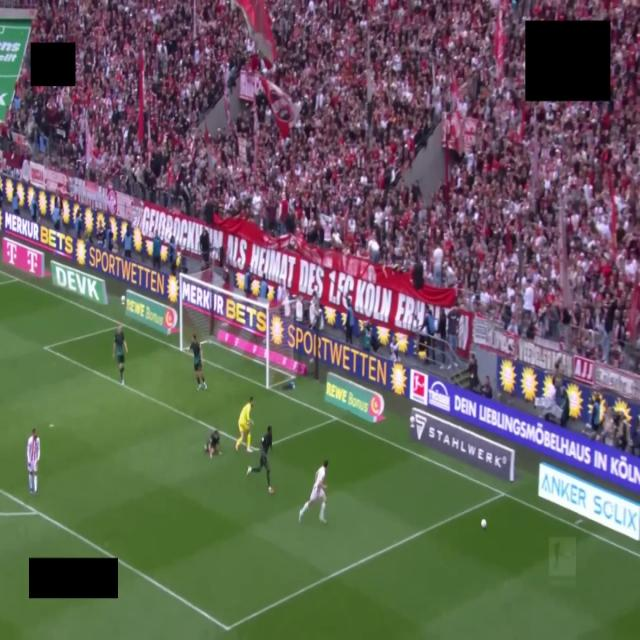ball: (481, 519, 486, 528)
player: (247, 426, 274, 493), (299, 461, 328, 523), (235, 397, 253, 452), (190, 334, 207, 390), (27, 428, 40, 494), (113, 325, 127, 384), (205, 430, 221, 458)
